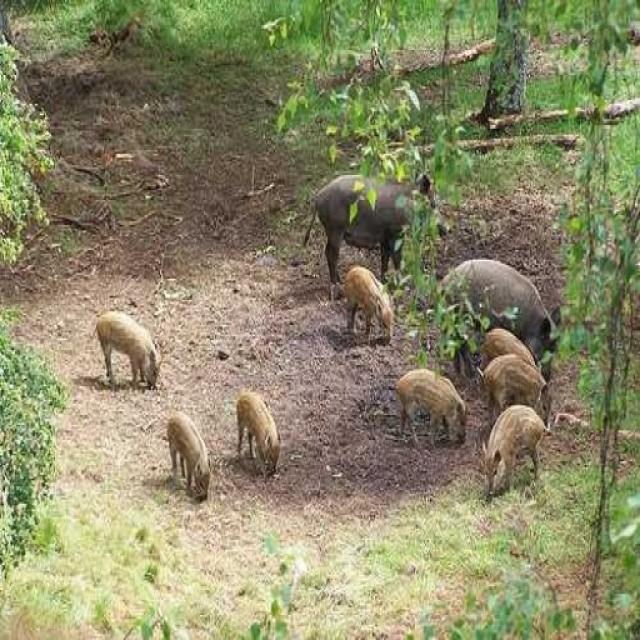pig: (443, 216, 577, 338), (372, 350, 479, 461), (88, 275, 190, 382), (317, 157, 416, 250), (228, 386, 308, 489), (161, 400, 222, 512), (322, 238, 399, 323), (488, 341, 561, 420), (497, 411, 552, 496), (493, 324, 558, 372)
